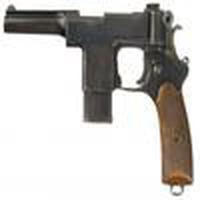gun: (4, 5, 200, 194)
